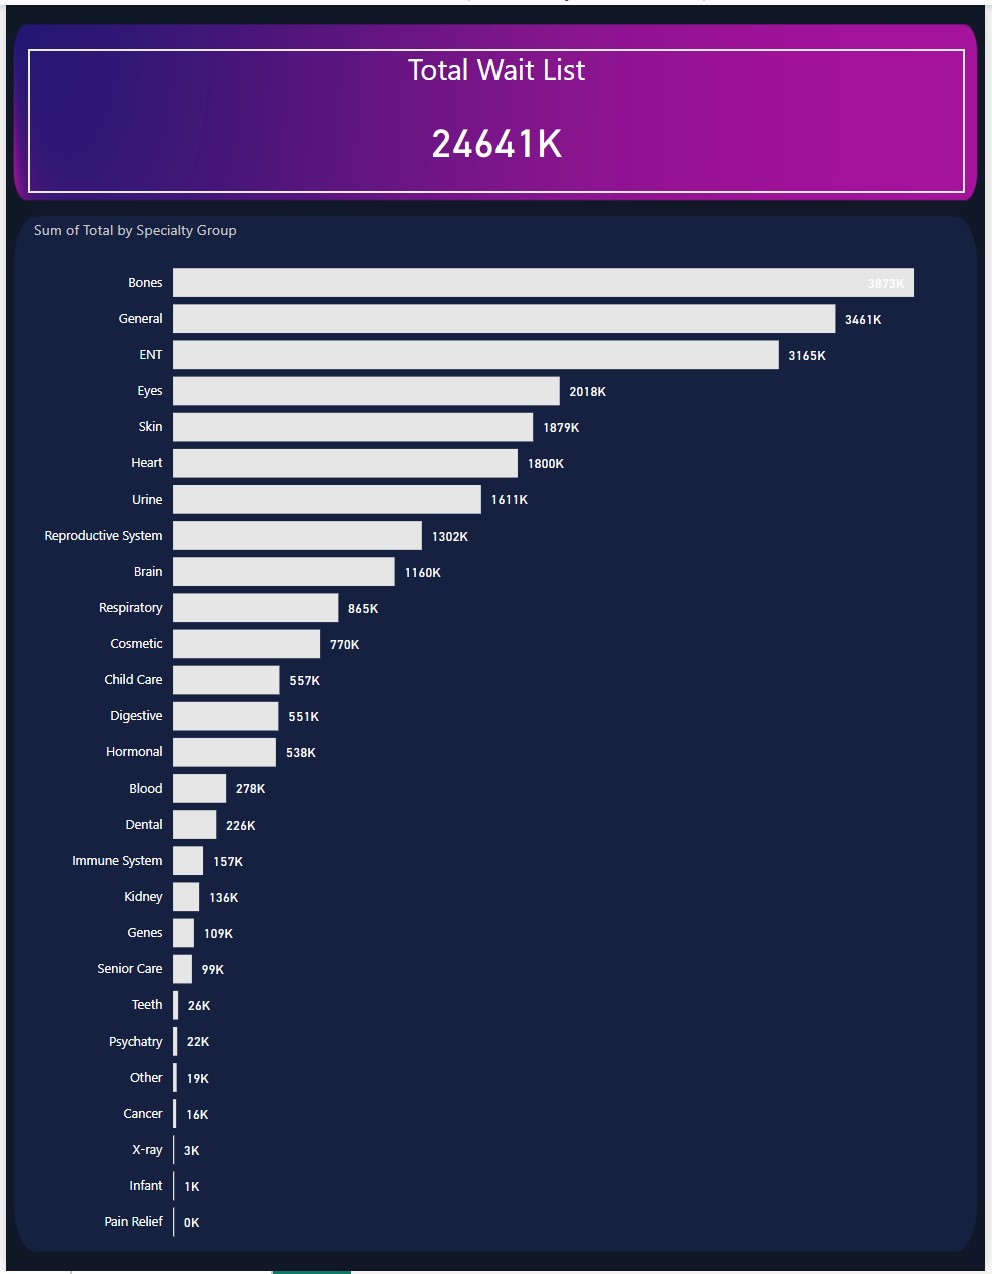

The page's visual inventory and layout, read from the dashboard file:
{"tool":"powerbi","page":{"name":"Drill_Down","canvas":[816,1056],"ordinal":2},"visuals":[{"type":"clusteredBarChart","fields":{"Category":["Mapping_Specialty.Specialty Group"],"Y":["Sum(All_Data.Total)"]},"box":[18.4,178.5,780.7,865.8],"z":0},{"type":"card","title":"Total Wait List","fields":{"Values":["Sum(All_Data.Total)"]},"box":[18.4,36.7,780.7,120.1],"z":1000}]}

Visuals, with their boxes in screenshot pixels (x1, y1, x2, y2), scaled from the page's 816x1056 canvas onto the 992x1274 screenshot:
clusteredBarChart - Mapping_Specialty.Specialty Group x Sum(All_Data.Total): 22 215 971 1260
"Total Wait List" card: 22 44 971 189
